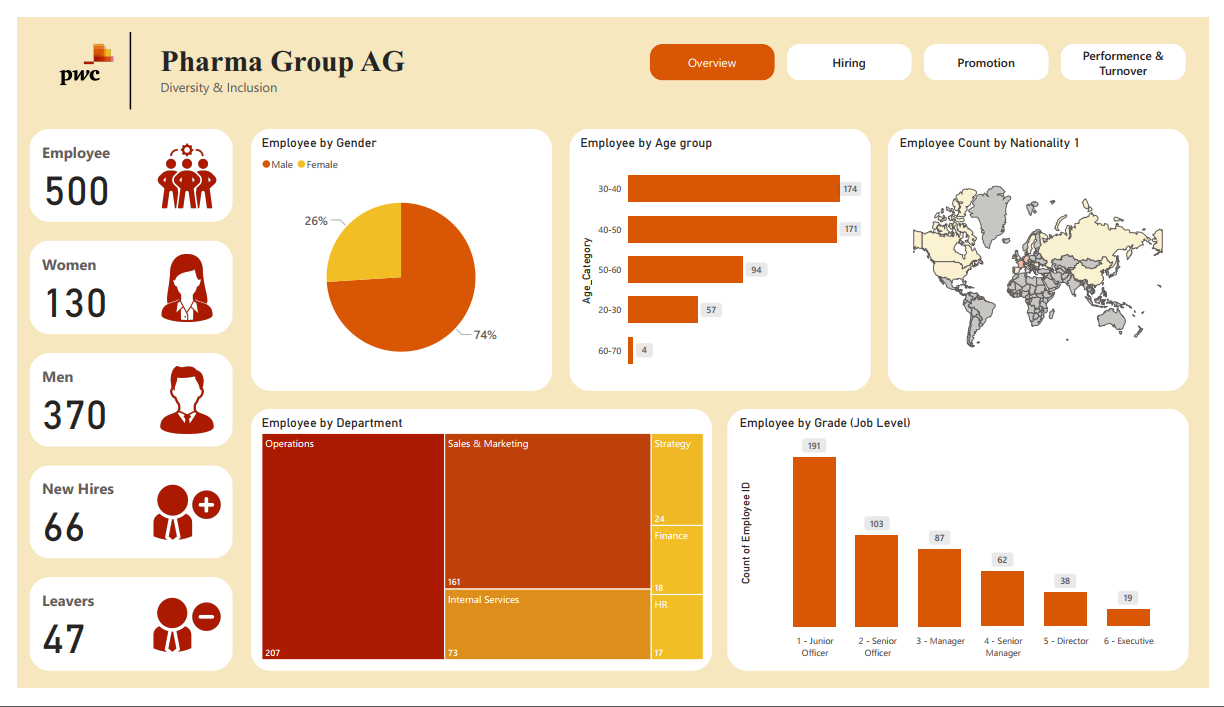

Layout of this report page (visuals, bound fields, positions):
{"tool":"powerbi","page":{"name":"Overview","canvas":[1600,900],"ordinal":0},"visuals":[{"type":"shape","box":[1169.8,148.8,404.7,352.3],"z":0},{"type":"shape","box":[17.4,450,272.1,125.6],"z":1000},{"type":"shape","box":[17.4,299.4,272.1,125.6],"z":2000},{"type":"shape","box":[17.4,148.8,272.1,125.6],"z":3000},{"type":"shape","box":[954.2,525.1,620.1,352],"z":4000},{"type":"shape","box":[314,148.8,405,352.3],"z":5000},{"type":"shape","box":[314,525.1,620,352],"z":6000},{"type":"shape","box":[741.9,148.8,405,352.3],"z":7000},{"type":"image","box":[33.8,8.8,120,106.2],"z":8000},{"type":"textbox","title":"Pharma Group AG","box":[188.4,34.9,345.3,70.9],"z":9000},{"type":"shape","box":[102.3,18.6,101.2,104.7],"z":10000},{"type":"cardVisual","fields":{"Data":["CountNonNull(Backing 1.Employee ID)"]},"box":[17.4,148.8,272.1,125.6],"z":11000},{"type":"pieChart","title":"Employee by Gender","fields":{"Category":["Backing 1.GENDER"],"Y":["CountNonNull(Backing 1.Employee ID)"]},"box":[324.4,157,383.7,334.9],"z":12000},{"type":"cardVisual","fields":{"Data":["Measures Table.Female employees"]},"box":[17.4,300,272.1,125.6],"z":13000},{"type":"cardVisual","fields":{"Data":["Measures Table.Male employees"]},"box":[17.4,450,272.1,125.6],"z":14000},{"type":"barChart","title":"Employee by Age group","fields":{"Category":["Backing 1.Age_Category"],"Y":["CountNonNull(Backing 1.Employee ID)"]},"box":[752.3,158.1,386,334.9],"z":15000},{"type":"shape","box":[17.4,600.6,272.1,125.6],"z":16000},{"type":"shape","box":[17.4,751.2,272.1,125.6],"z":17000},{"type":"cardVisual","fields":{"Data":["Measures Table.New hire FY20"]},"box":[17.4,601.2,272.1,125.6],"z":18000},{"type":"cardVisual","fields":{"Data":["Measures Table.FY20 leaver"]},"box":[17.4,751.2,272.1,125.6],"z":19000},{"type":"shapeMap","title":"Employee Count by Nationality 1 ","fields":{"Category":["Backing 1.Nationality"],"Value":["CountNonNull(Backing 1.Employee ID)"]},"box":[1181.4,157,380.2,334.9],"z":20000},{"type":"treemap","title":"Employee  by Department","fields":{"Group":["Backing 1.FUNCTION"],"Values":["CountNonNull(Backing 1.Employee ID)"]},"box":[324,534.1,603.4,333],"z":21000},{"type":"clusteredColumnChart","title":"Employee by Grade (Job Level)","fields":{"Category":["Backing 1.GRADE"],"Y":["CountNonNull(Backing 1.Employee ID)"]},"box":[966.5,534.1,595.5,334.1],"z":22000},{"type":"pageNavigator","box":[849.6,34.8,723.6,49.6],"z":23000}]}

Visuals, with their boxes in screenshot pixels (x1, y1, x2, y2), scaled from the page's 1600x900 canvas onto the 1224x707 screenshot:
shape: 895,117,1204,394
shape: 13,354,221,452
shape: 13,235,221,334
shape: 13,117,221,216
shape: 730,412,1204,689
shape: 240,117,550,394
shape: 240,412,715,689
shape: 568,117,877,394
image: 26,7,118,90
"Pharma Group AG" textbox: 144,27,408,83
shape: 78,15,156,97
cardVisual - CountNonNull(Backing 1.Employee ID): 13,117,221,216
"Employee by Gender" pieChart: 248,123,542,386
cardVisual - Measures Table.Female employees: 13,236,221,334
cardVisual - Measures Table.Male employees: 13,354,221,452
"Employee by Age group" barChart: 576,124,871,387
shape: 13,472,221,570
shape: 13,590,221,689
cardVisual - Measures Table.New hire FY20: 13,472,221,571
cardVisual - Measures Table.FY20 leaver: 13,590,221,689
"Employee Count by Nationality 1 " shapeMap: 904,123,1195,386
"Employee  by Department" treemap: 248,420,709,681
"Employee by Grade (Job Level)" clusteredColumnChart: 739,420,1195,682
pageNavigator: 650,27,1203,66
